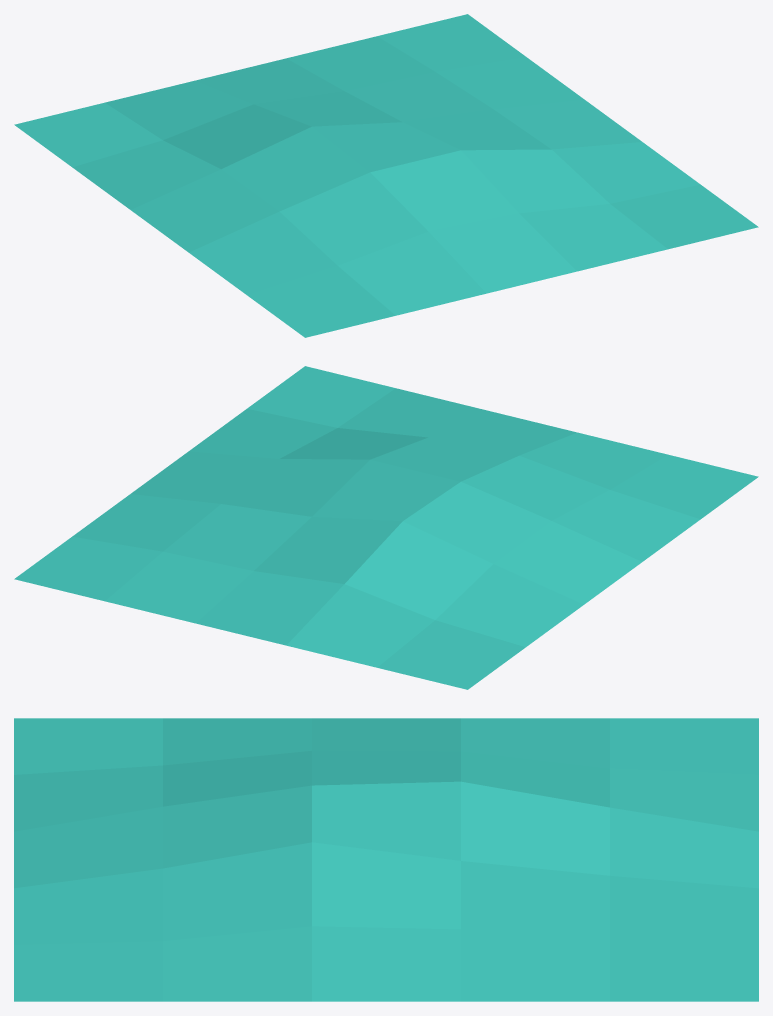
The model's file is Wasser.fbx.
The picture shows the model from 3 angles, top to bottom: view 1: azimuth 30°, elevation 25°; view 2: azimuth 150°, elevation 25°; view 3: azimuth 270°, elevation 25°; orthographic projection. The views are drawn at different scales.
Visible parts, largest first — view 1: Landschaft; view 2: Landschaft; view 3: Landschaft.
Part boxes in pixels (x1=…): Landschaft: x1=14, y1=14, x2=758, y2=337; Landschaft: x1=14, y1=366, x2=758, y2=689; Landschaft: x1=14, y1=718, x2=758, y2=1001.
Size of the model in its own units: 911 by 74.97 by 1012.
